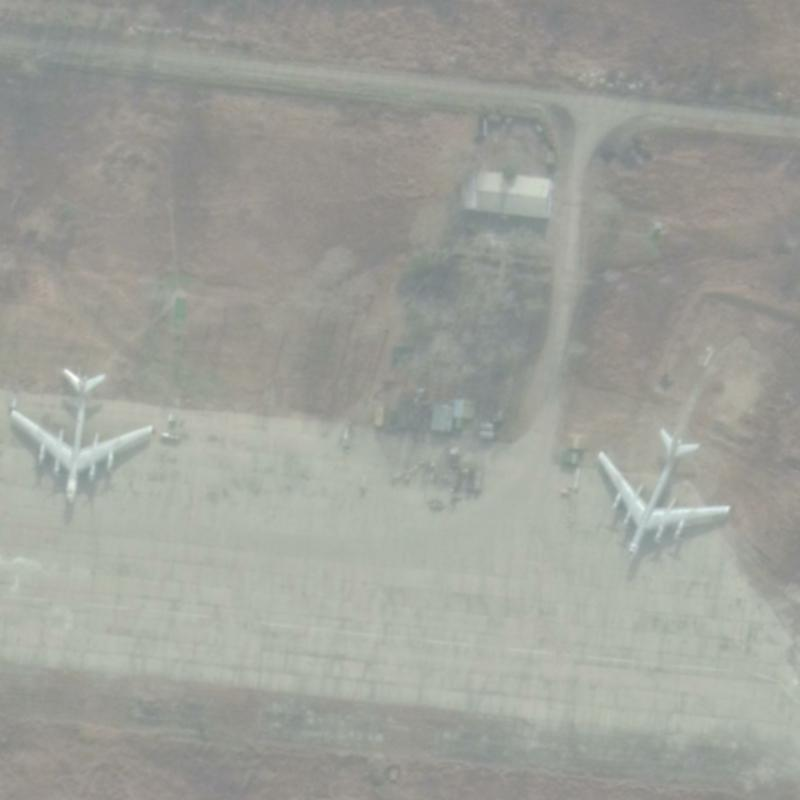A17: (7, 364, 153, 507), (594, 425, 731, 559)
